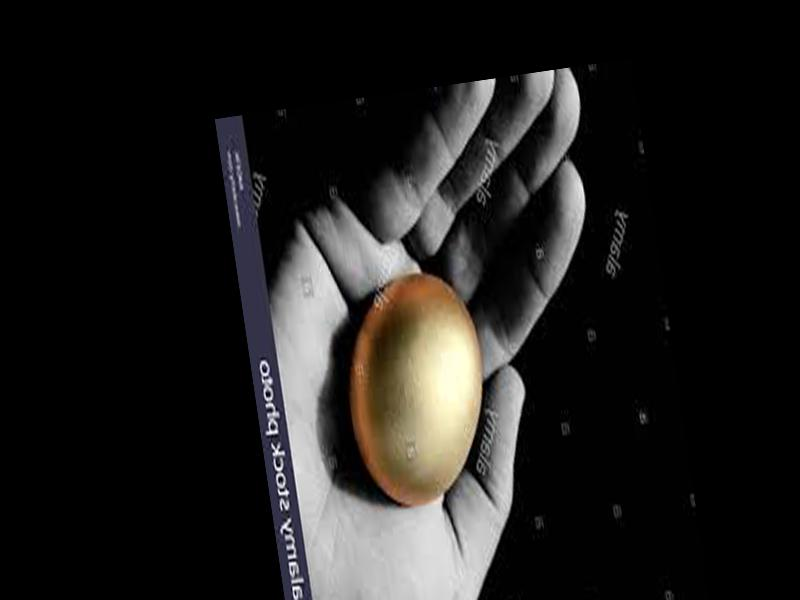Eggs: (335, 265, 499, 510)
